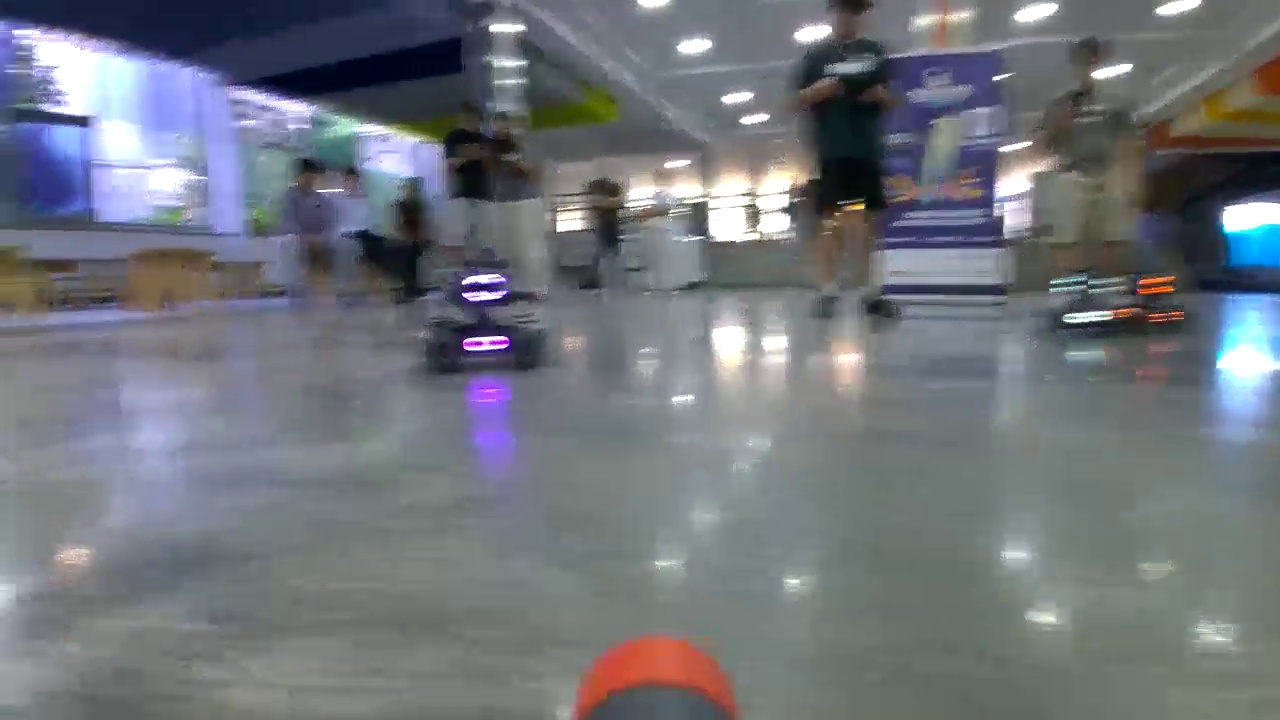robot: (426, 265, 546, 366), (1049, 270, 1138, 328), (1136, 270, 1185, 328)
